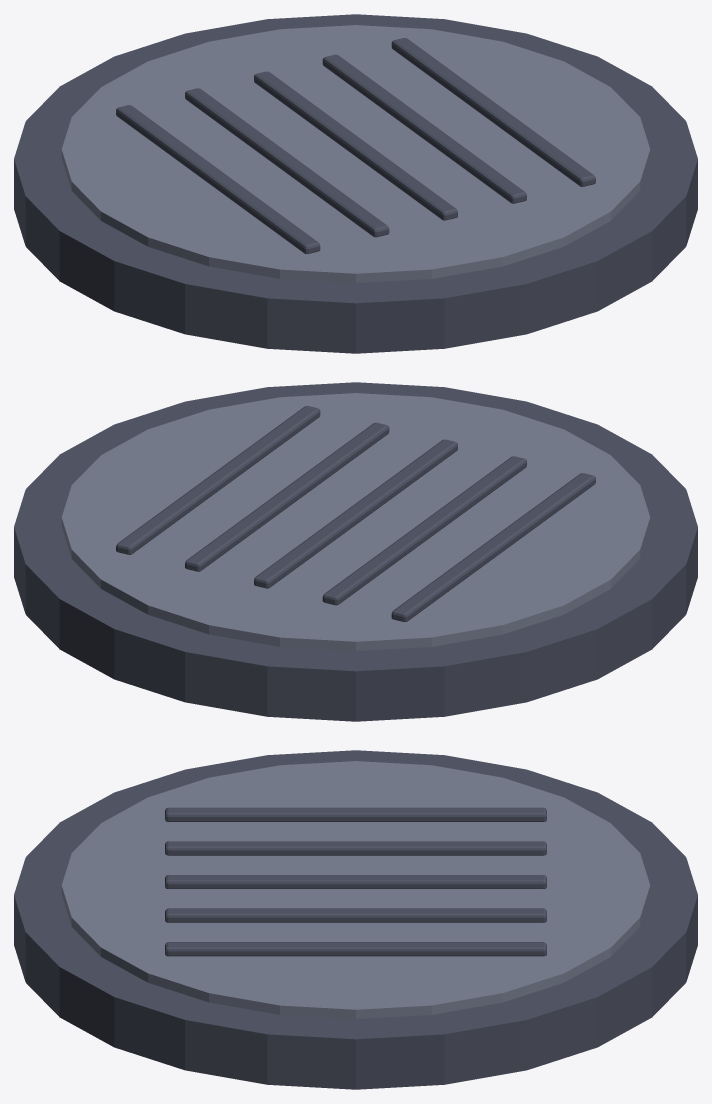
File: manhole_cover.glb
3 renders of one model, top to bottom at view 1: azimuth 30°, elevation 25°; view 2: azimuth 150°, elevation 25°; view 3: azimuth 270°, elevation 25°, orthographic.
Visible parts, largest first — view 1: manhole_cover__Cover, manhole_cover__Rim, manhole_cover__Grip ridge.001, manhole_cover__Grip ridge.003, manhole_cover__Grip ridge.004, manhole_cover__Grip ridge, manhole_cover__Grip ridge.002; view 2: manhole_cover__Cover, manhole_cover__Rim, manhole_cover__Grip ridge.001, manhole_cover__Grip ridge.003, manhole_cover__Grip ridge.004, manhole_cover__Grip ridge, manhole_cover__Grip ridge.002; view 3: manhole_cover__Cover, manhole_cover__Rim, manhole_cover__Grip ridge.001, manhole_cover__Grip ridge.004, manhole_cover__Grip ridge.003, manhole_cover__Grip ridge, manhole_cover__Grip ridge.002.
Part boxes in pixels (<box>): manhole_cover__Cover: <box>61,25,650,282</box>; manhole_cover__Rim: <box>14,14,697,353</box>; manhole_cover__Grip ridge.001: <box>185,88,389,237</box>; manhole_cover__Grip ridge.003: <box>322,54,526,203</box>; manhole_cover__Grip ridge.004: <box>391,38,595,186</box>; manhole_cover__Grip ridge: <box>116,105,320,253</box>; manhole_cover__Grip ridge.002: <box>254,71,457,220</box>; manhole_cover__Cover: <box>61,393,650,650</box>; manhole_cover__Rim: <box>14,382,697,721</box>; manhole_cover__Grip ridge.001: <box>322,456,526,605</box>; manhole_cover__Grip ridge.003: <box>185,422,389,571</box>; manhole_cover__Grip ridge.004: <box>116,406,320,554</box>; manhole_cover__Grip ridge: <box>391,473,595,621</box>; manhole_cover__Grip ridge.002: <box>254,439,457,588</box>; manhole_cover__Cover: <box>61,761,650,1018</box>; manhole_cover__Rim: <box>14,750,697,1089</box>; manhole_cover__Grip ridge.001: <box>165,841,546,855</box>; manhole_cover__Grip ridge.004: <box>165,942,546,956</box>; manhole_cover__Grip ridge.003: <box>165,908,546,922</box>; manhole_cover__Grip ridge: <box>165,807,546,821</box>; manhole_cover__Grip ridge.002: <box>165,875,546,888</box>.
Size of the model in its own units: 0.172 by 0.0188 by 0.172.
